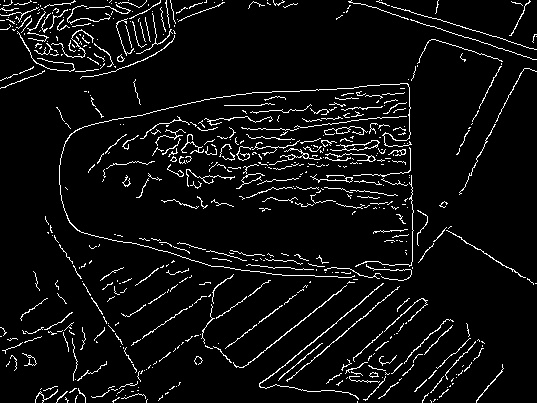cucumber: (42, 81, 424, 287)
